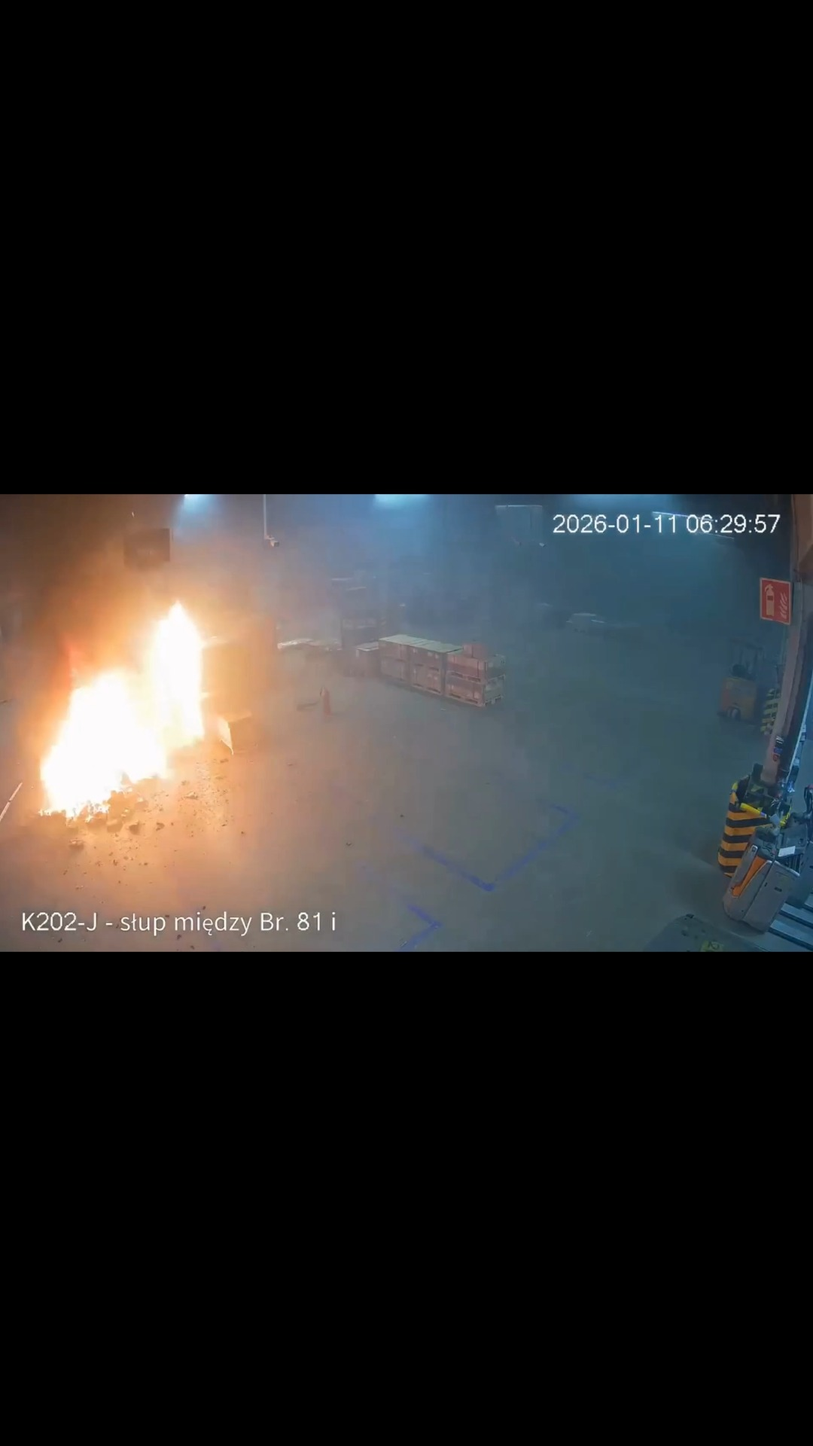fire: (30, 600, 218, 820)
